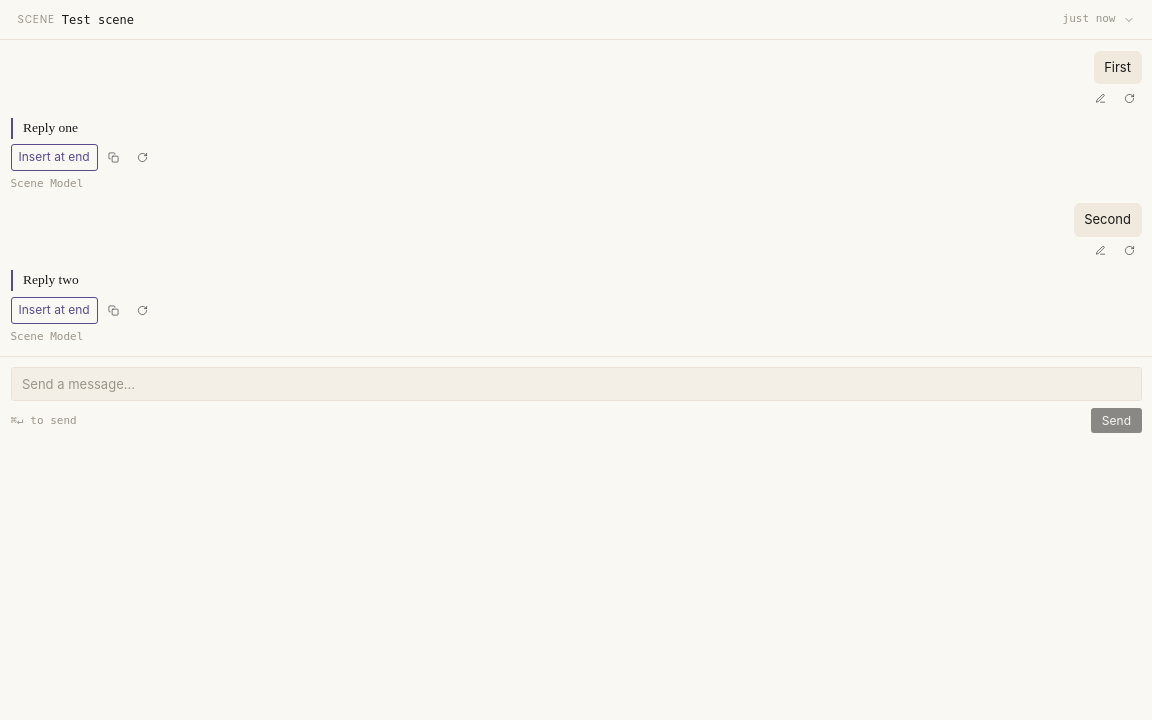
SceneTab — [10] useMessageActions parity › mid-thread Regenerate shows confirm dialog with message count
Expected: the list item with test id "assistant-a1" is shown, [10,118,1142,193]
Click the button named "regenerate" below "First".
click(1129, 98)  # box [1116,89,1142,107]
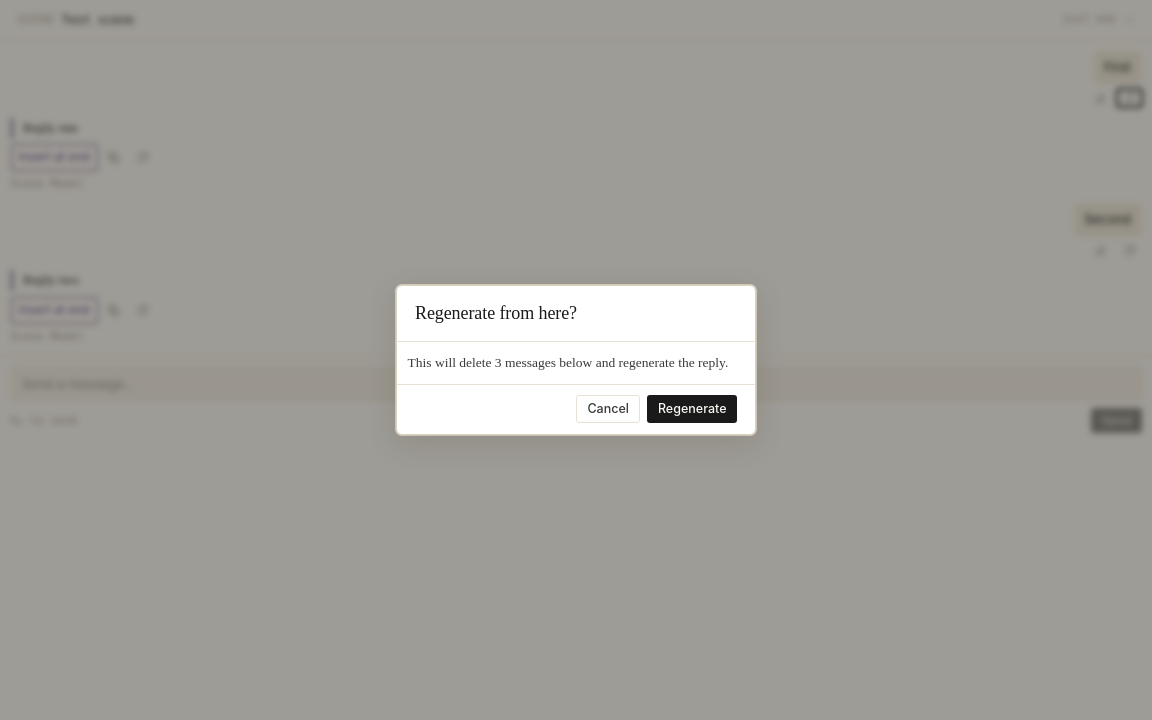
Expected: the dialog with test id "resend-confirm" is shown, [396,285,756,435]
Expected: the dialog with test id "resend-confirm" shows "3 messages", [408,354,728,370]
Expected: the button "Regenerate" is shown, [647,396,737,424]
